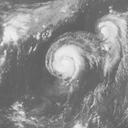cyclone: (44, 33, 86, 82), (94, 14, 127, 61)
